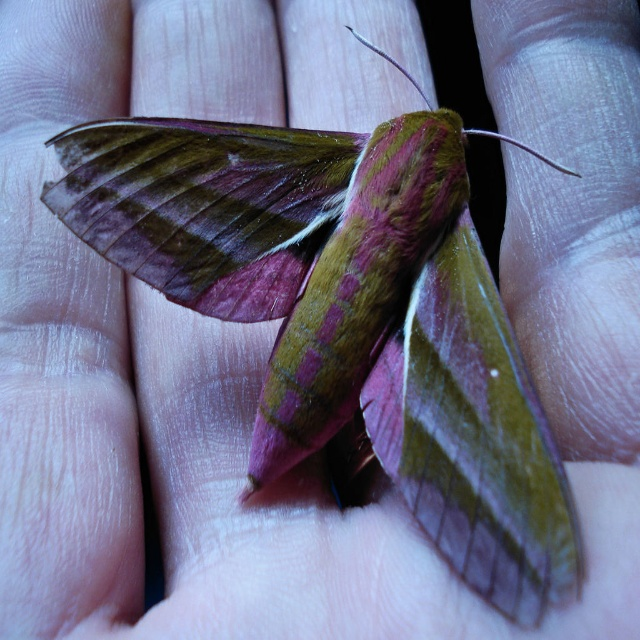Moths and butterflies: (40, 22, 591, 627)
